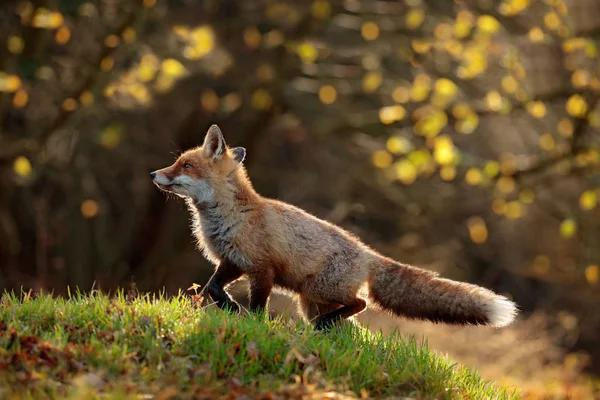fox: (147, 121, 520, 343)
